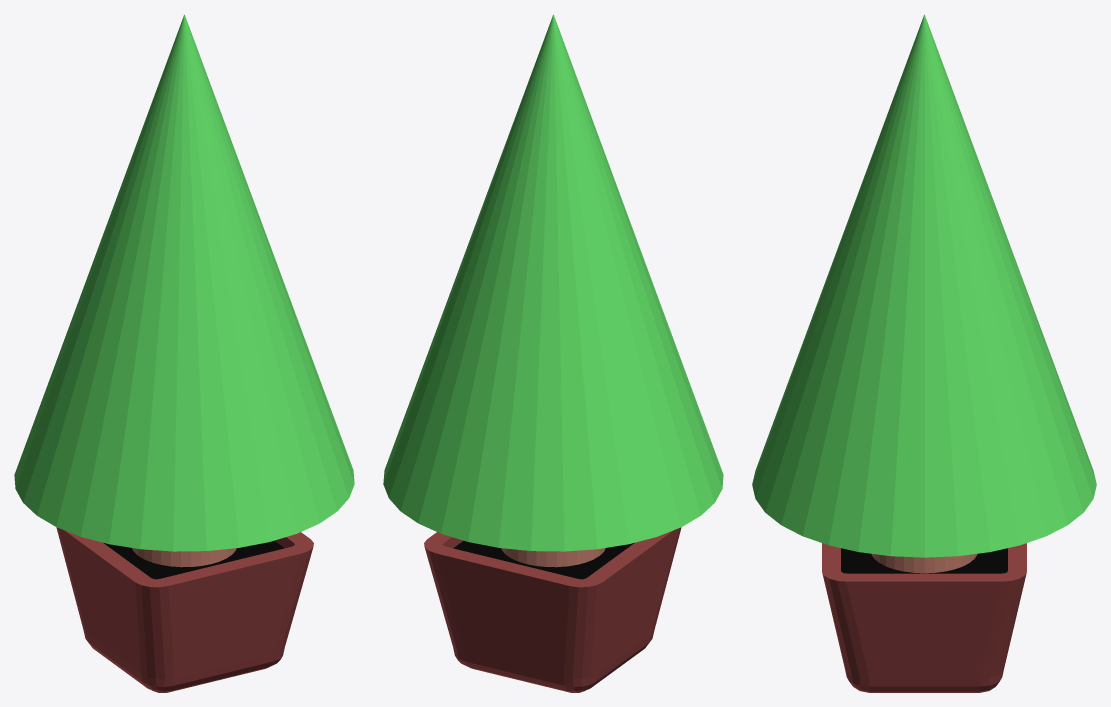
Rendered from potted_tree.glb.
3 views of the same model, side by side, from view 1: azimuth 30°, elevation 25°; view 2: azimuth 150°, elevation 25°; view 3: azimuth 270°, elevation 25° (orthographic).
Visible parts, largest first — view 1: Cube; view 2: Cube; view 3: Cube.
Part boxes in pixels (bbox=[...]): Cube: bbox=[14, 14, 354, 692]; Cube: bbox=[383, 14, 723, 692]; Cube: bbox=[752, 14, 1096, 692].
Bounding box in the file's own units: 1.91 × 3.98 × 1.91.
